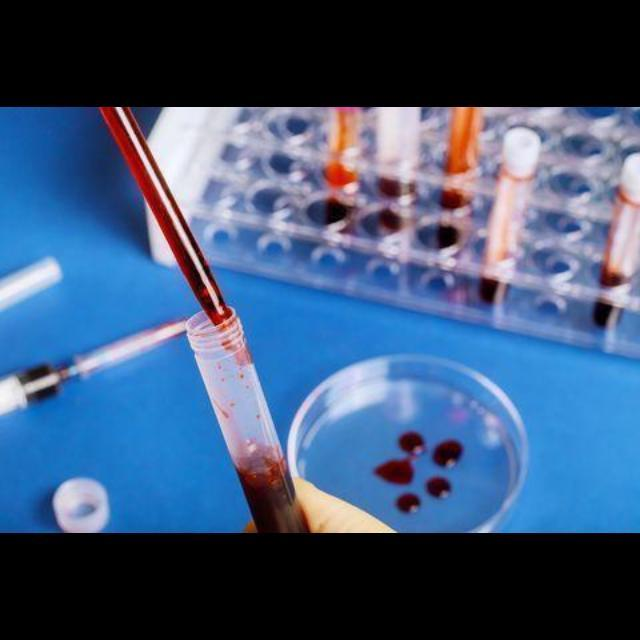blood: (101, 107, 232, 325), (236, 448, 308, 534), (375, 432, 428, 486), (433, 440, 464, 469), (428, 478, 452, 500), (397, 495, 421, 513)
